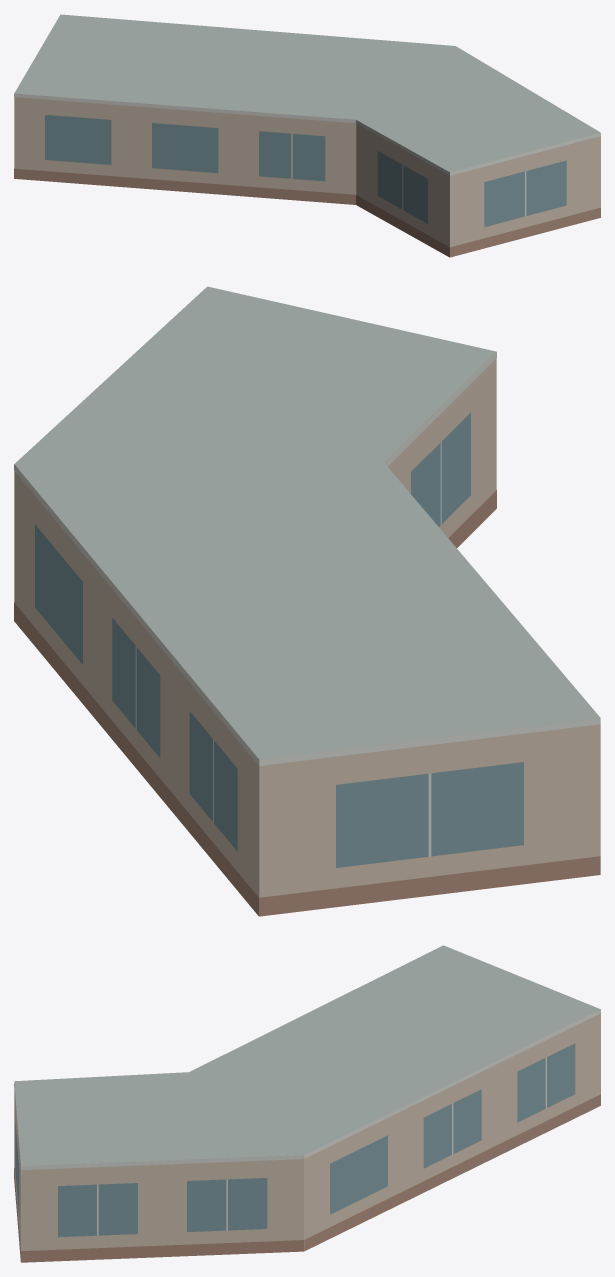
File: survey-upis-32663310.glb
3 views of the same model, one above another, from view 1: azimuth 30°, elevation 25°; view 2: azimuth 150°, elevation 25°; view 3: azimuth 270°, elevation 25° (orthographic). The views are drawn at different scales.
Parts seen in each view (by area): view 1: survey-upis-32663310.tmp; view 2: survey-upis-32663310.tmp; view 3: survey-upis-32663310.tmp.
Boxes of the visible parts, x1,y1,x2,y2 form: survey-upis-32663310.tmp: [14, 14, 600, 257]; survey-upis-32663310.tmp: [14, 286, 600, 916]; survey-upis-32663310.tmp: [14, 945, 600, 1262].
Bounding box in the file's own units: 15 × 3.05 × 16.83.
